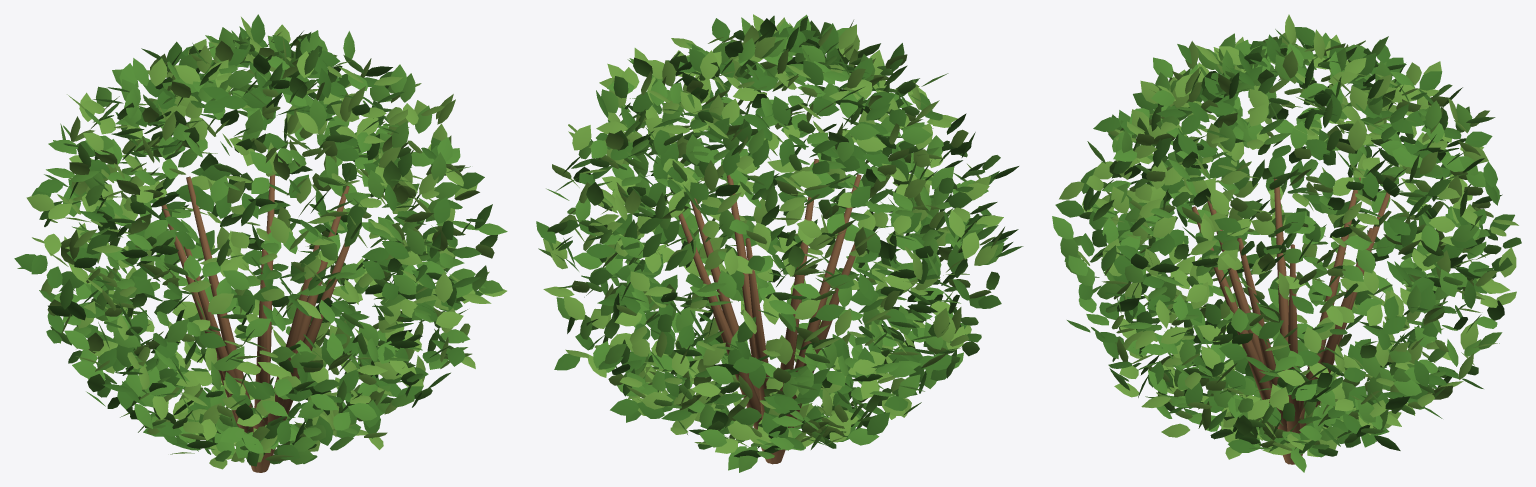
Rendered from rounded-landscape-shrub.glb.
3 renders of one model, left to right at view 1: azimuth 30°, elevation 25°; view 2: azimuth 150°, elevation 25°; view 3: azimuth 270°, elevation 25°, orthographic. The views are drawn at different scales.
Visible parts, largest first — view 1: Shrub leaves 1, Shrub leaves 2, Shrub leaves 0, Shrub stem.006, Shrub stem.005, Shrub stem.007, Shrub stem.002, Shrub stem.004, Shrub stem, Shrub stem.001, Shrub stem.003; view 2: Shrub leaves 2, Shrub leaves 0, Shrub leaves 1, Shrub stem.003, Shrub stem.006, Shrub stem.007, Shrub stem, Shrub stem.005, Shrub stem.001, Shrub stem.004; view 3: Shrub leaves 2, Shrub leaves 0, Shrub leaves 1, Shrub stem.005, Shrub stem.002, Shrub stem.004, Shrub stem, Shrub stem.001, Shrub stem.007, Shrub stem.003.
Part boxes in pixels (x1=…): Shrub leaves 1: x1=17, y1=27, x2=507, y2=464; Shrub leaves 2: x1=26, y1=17, x2=506, y2=469; Shrub leaves 0: x1=14, y1=14, x2=492, y2=466; Shrub stem.006: x1=186, y1=176, x2=252, y2=407; Shrub stem.005: x1=265, y1=243, x2=349, y2=471; Shrub stem.007: x1=253, y1=249, x2=267, y2=472; Shrub stem.002: x1=260, y1=245, x2=319, y2=472; Shrub stem.004: x1=183, y1=246, x2=257, y2=472; Shrub stem: x1=295, y1=185, x2=349, y2=353; Shrub stem.001: x1=159, y1=197, x2=252, y2=469; Shrub stem.003: x1=266, y1=174, x2=275, y2=383; Shrub leaves 2: x1=543, y1=14, x2=1004, y2=453; Shrub leaves 0: x1=536, y1=15, x2=1023, y2=457; Shrub leaves 1: x1=538, y1=14, x2=1004, y2=472; Shrub stem.003: x1=678, y1=213, x2=769, y2=463; Shrub stem.006: x1=745, y1=238, x2=777, y2=464; Shrub stem.007: x1=794, y1=174, x2=861, y2=371; Shrub stem: x1=690, y1=198, x2=760, y2=402; Shrub stem.005: x1=726, y1=175, x2=756, y2=357; Shrub stem.001: x1=770, y1=242, x2=806, y2=463; Shrub stem.004: x1=779, y1=243, x2=855, y2=462; Shrub leaves 2: x1=1059, y1=14, x2=1518, y2=459; Shrub leaves 0: x1=1055, y1=27, x2=1521, y2=457; Shrub leaves 1: x1=1052, y1=32, x2=1502, y2=472; Shrub stem.005: x1=1237, y1=238, x2=1292, y2=464; Shrub stem.002: x1=1191, y1=206, x2=1288, y2=463; Shrub stem.004: x1=1274, y1=177, x2=1288, y2=370; Shrub stem: x1=1286, y1=244, x2=1299, y2=464; Shrub stem.001: x1=1299, y1=177, x2=1360, y2=416; Shrub stem.007: x1=1207, y1=200, x2=1285, y2=461; Shrub stem.003: x1=1299, y1=228, x2=1373, y2=455.
Bounding box in the file's own units: 1.44 × 1.41 × 1.42.
